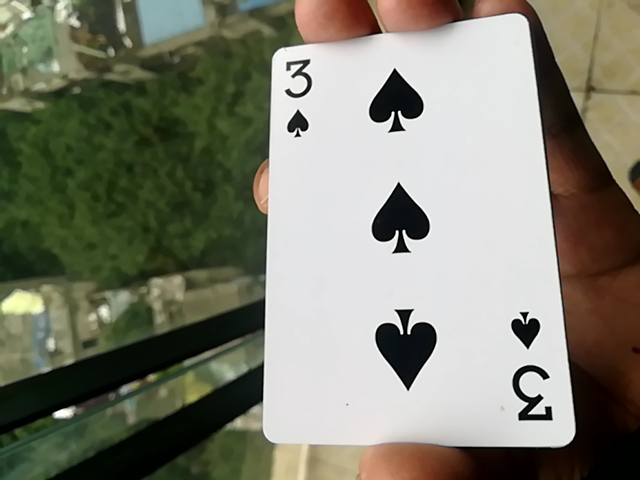ht 3: (236, 33, 579, 450)
